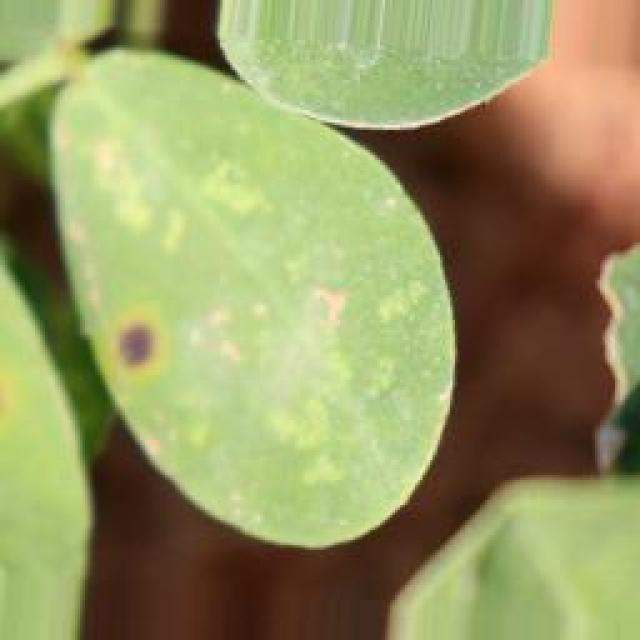Early_leaf_spot: (274, 258, 390, 374), (98, 307, 168, 405)
